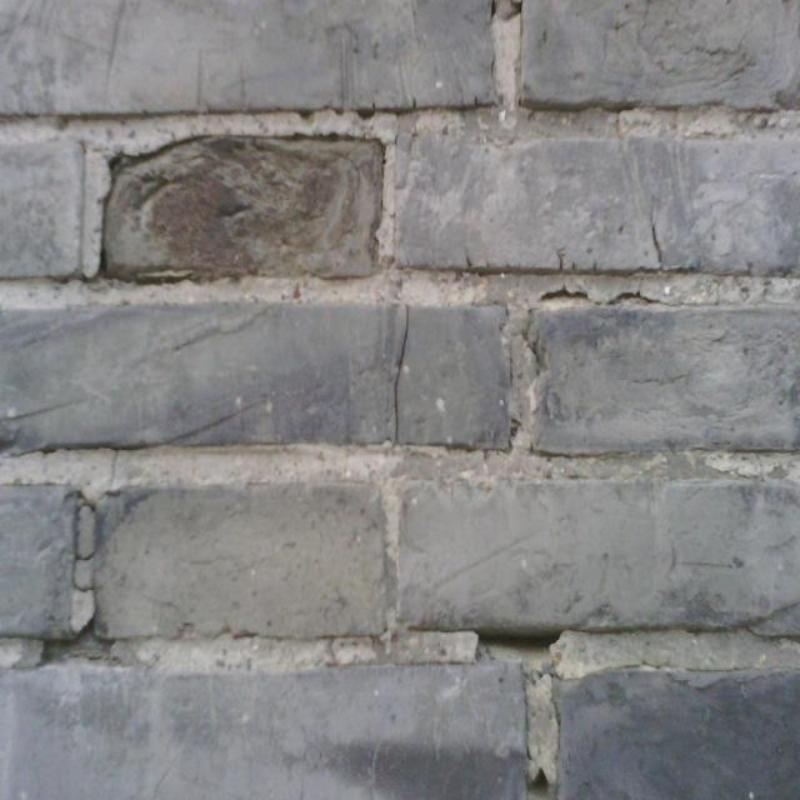pothole: (36, 620, 116, 669), (476, 628, 560, 659), (394, 305, 409, 442), (541, 292, 660, 305), (76, 249, 109, 282), (650, 193, 663, 263), (532, 770, 550, 792), (72, 582, 94, 592), (74, 551, 95, 561), (78, 503, 96, 511)
